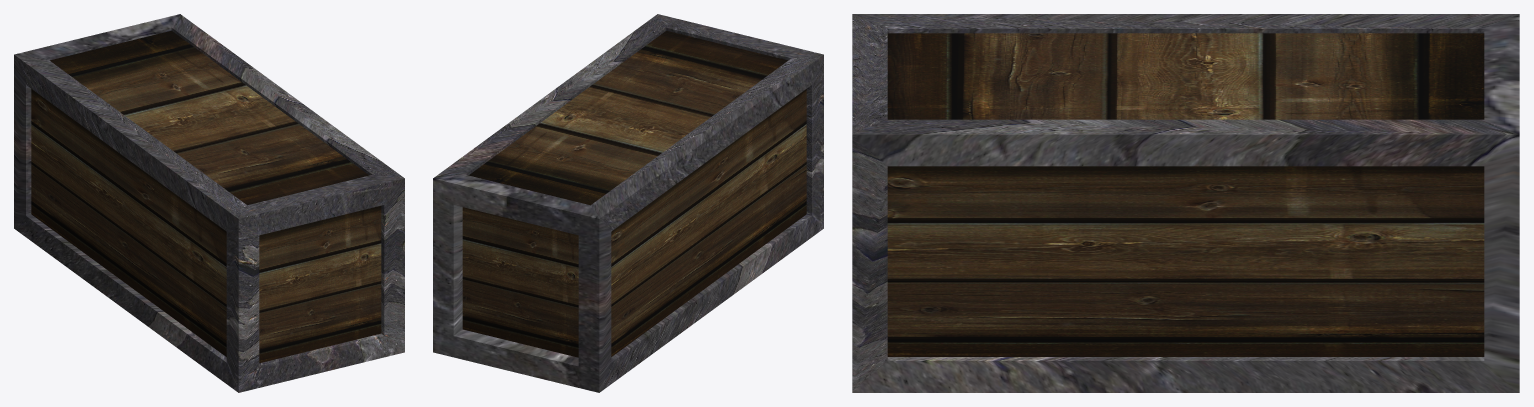
3 renders of one model, left to right at view 1: azimuth 30°, elevation 25°; view 2: azimuth 150°, elevation 25°; view 3: azimuth 270°, elevation 25°, orthographic. The views are drawn at different scales.
Parts seen in each view (by area): view 1: box wooden, box metal; view 2: box wooden, box metal; view 3: box wooden, box metal.
Part boxes in pixels (<box>): box wooden: <box>31,30,381,363</box>; box metal: <box>14,14,404,392</box>; box wooden: <box>462,30,806,357</box>; box metal: <box>433,14,823,392</box>; box wooden: <box>887,33,1484,356</box>; box metal: <box>852,14,1519,392</box>.
Size of the model in its own units: 227 by 227 by 531.
2 materials, 2 textured.
